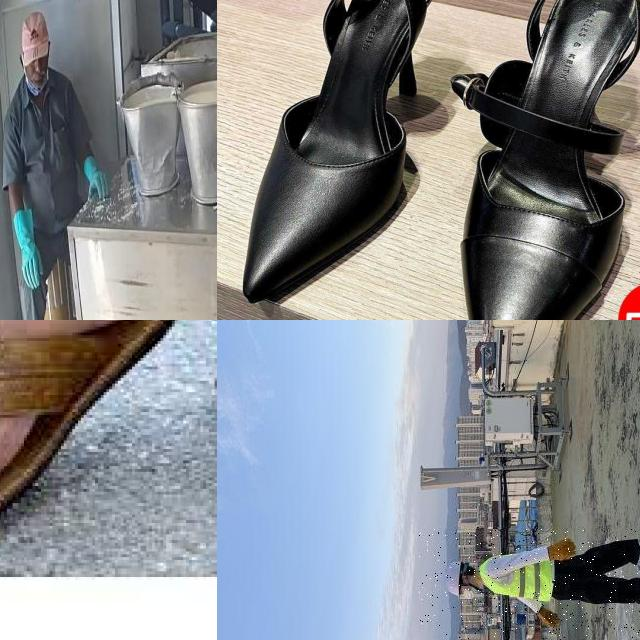Sandals: (217, 0, 471, 320), (414, 0, 640, 320), (0, 320, 180, 546)
boots: (632, 539, 640, 582), (635, 582, 640, 625)
face_nomask: (24, 50, 50, 88)
hand_glove: (15, 240, 46, 293), (81, 168, 113, 204)
head_helmet: (440, 558, 468, 601)
head_nohelmet: (18, 12, 56, 65)
person: (0, 10, 117, 320), (419, 529, 640, 640)
vest: (479, 547, 562, 598)
